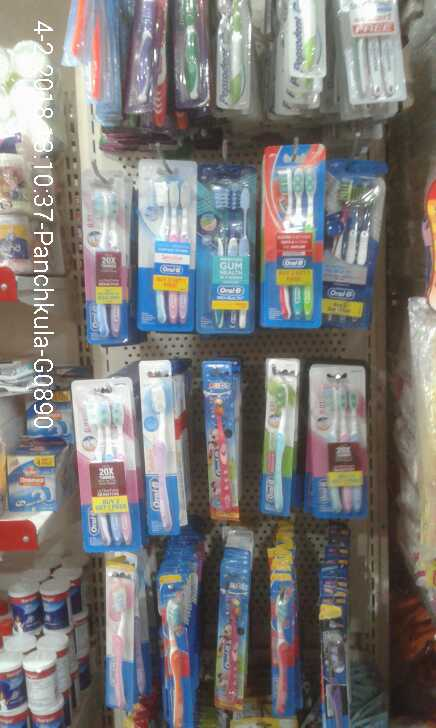oralb: (193, 163, 253, 338), (267, 156, 323, 330), (137, 164, 195, 329), (82, 162, 131, 352), (79, 392, 136, 545), (309, 378, 369, 518), (198, 378, 249, 526), (138, 369, 175, 524), (157, 593, 198, 726), (259, 359, 293, 515), (102, 575, 131, 716)
